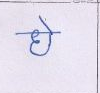e_matra: (38, 15, 54, 32)
